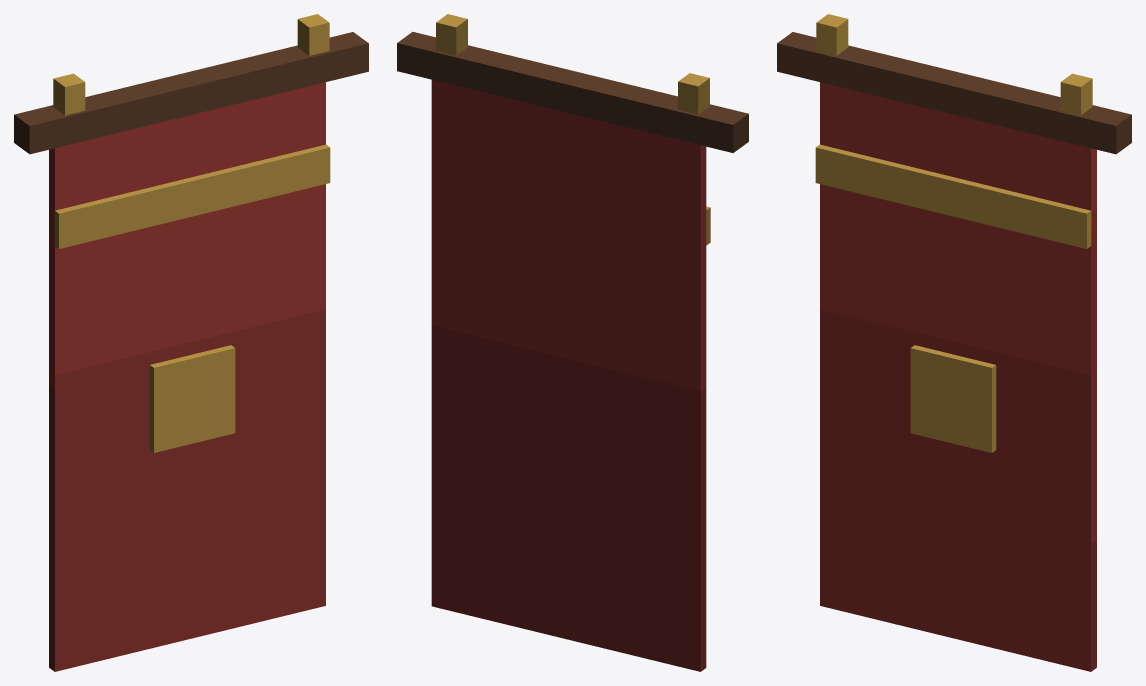
Rendered from wall_banner.glb.
3 renders of one model, left to right at view 1: azimuth 30°, elevation 25°; view 2: azimuth 150°, elevation 25°; view 3: azimuth 330°, elevation 25°, orthographic.
Size of the model in its own units: 0.5 by 0.83 by 0.04.
1 material, 1 textured.
